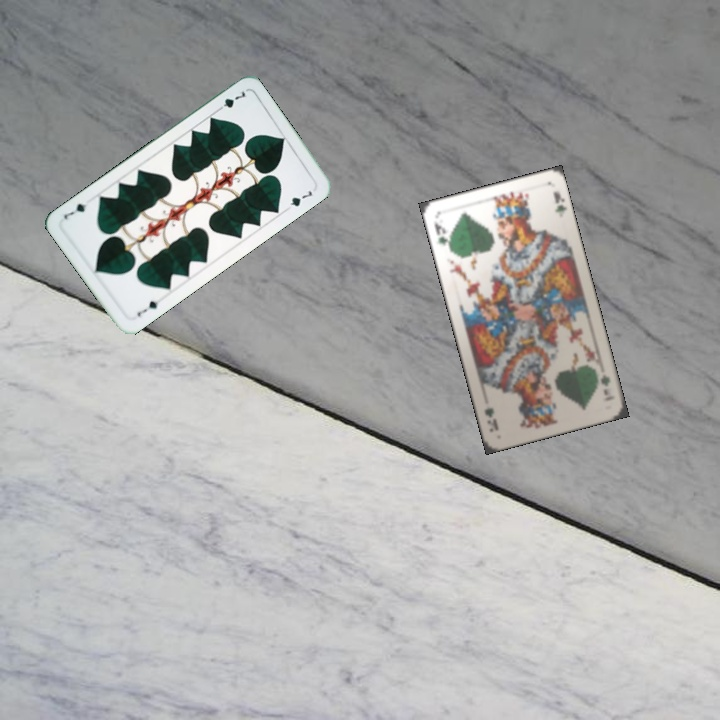G7: (212, 87, 248, 114), (133, 296, 161, 319)
GK: (430, 218, 454, 252), (596, 371, 613, 398)
